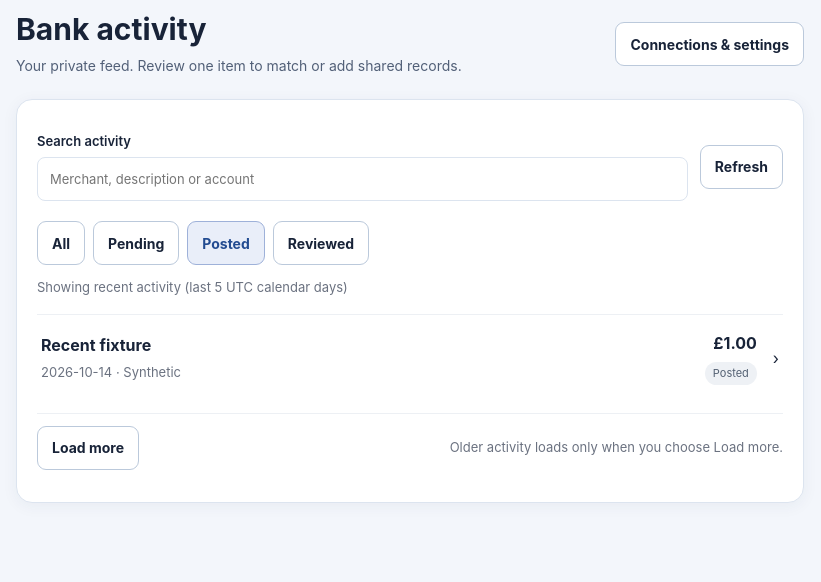
Test: retains loaded rows after append failure and retries the same cursor
Click the button "Load more" at coordinates (88, 448), box [37,426,139,470]
Wait 250 ms
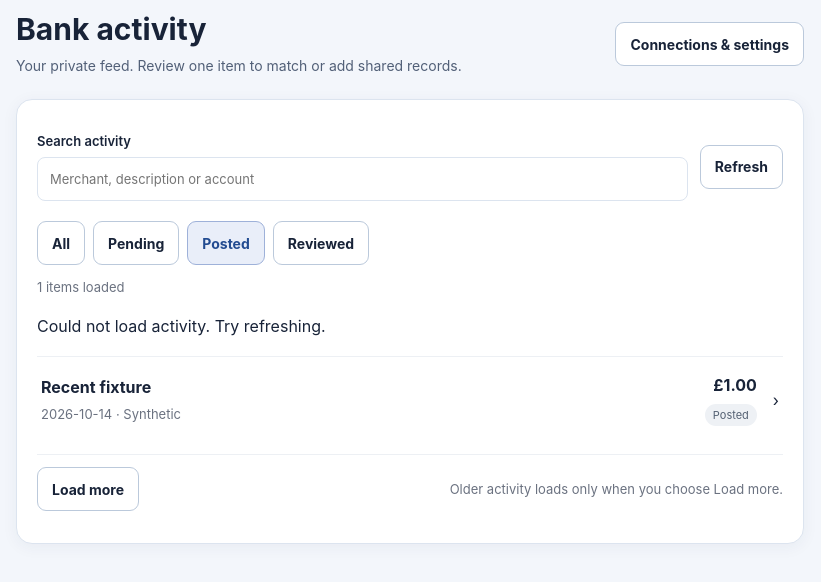
Expected: the text "Recent fixture" is shown, [41,377,151,397]
Expected: the message "Could not load activity. Try refreshing." is shown, [37,316,326,336]
Click the button "Load more" at coordinates (88, 489), box [37,467,139,511]
Wait 250 ms
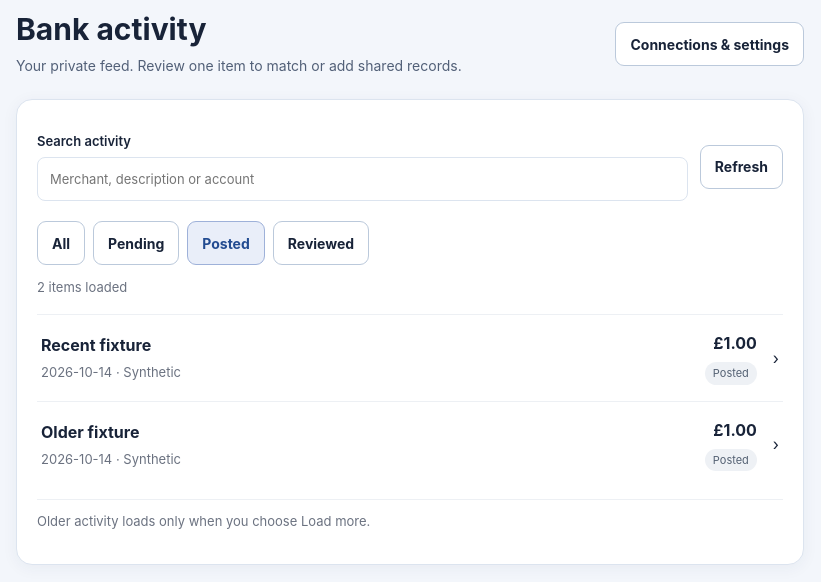
Expected: the text "Recent fixture" is shown, [41,335,151,355]
Expected: the text "Older fixture" is shown, [41,422,139,442]
